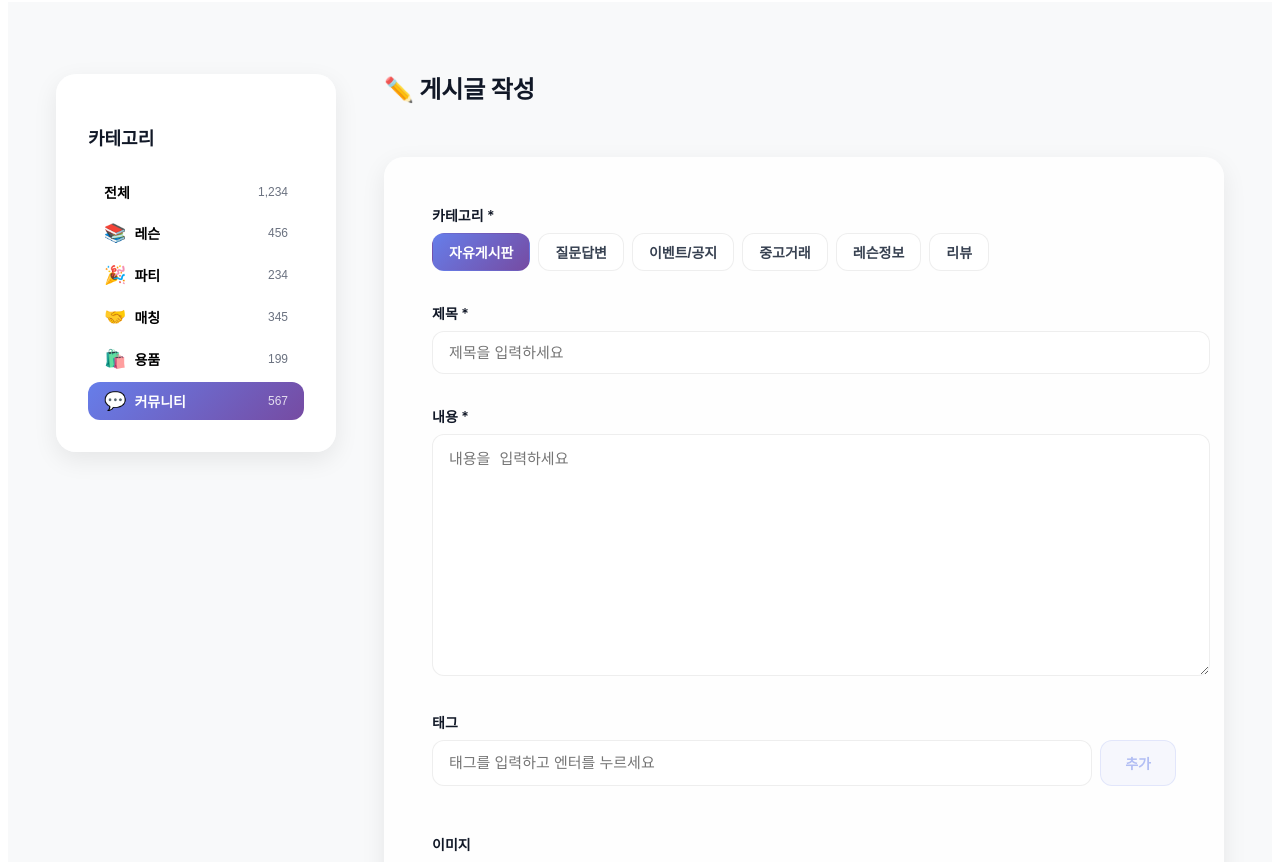
PostForm 컴포넌트 › 폼 검증 › 제목과 내용을 입력하면 제출 버튼이 활성화된다
Type "제목" into the field labelled "제목 *" at (821, 352), box [432,331,1210,374]
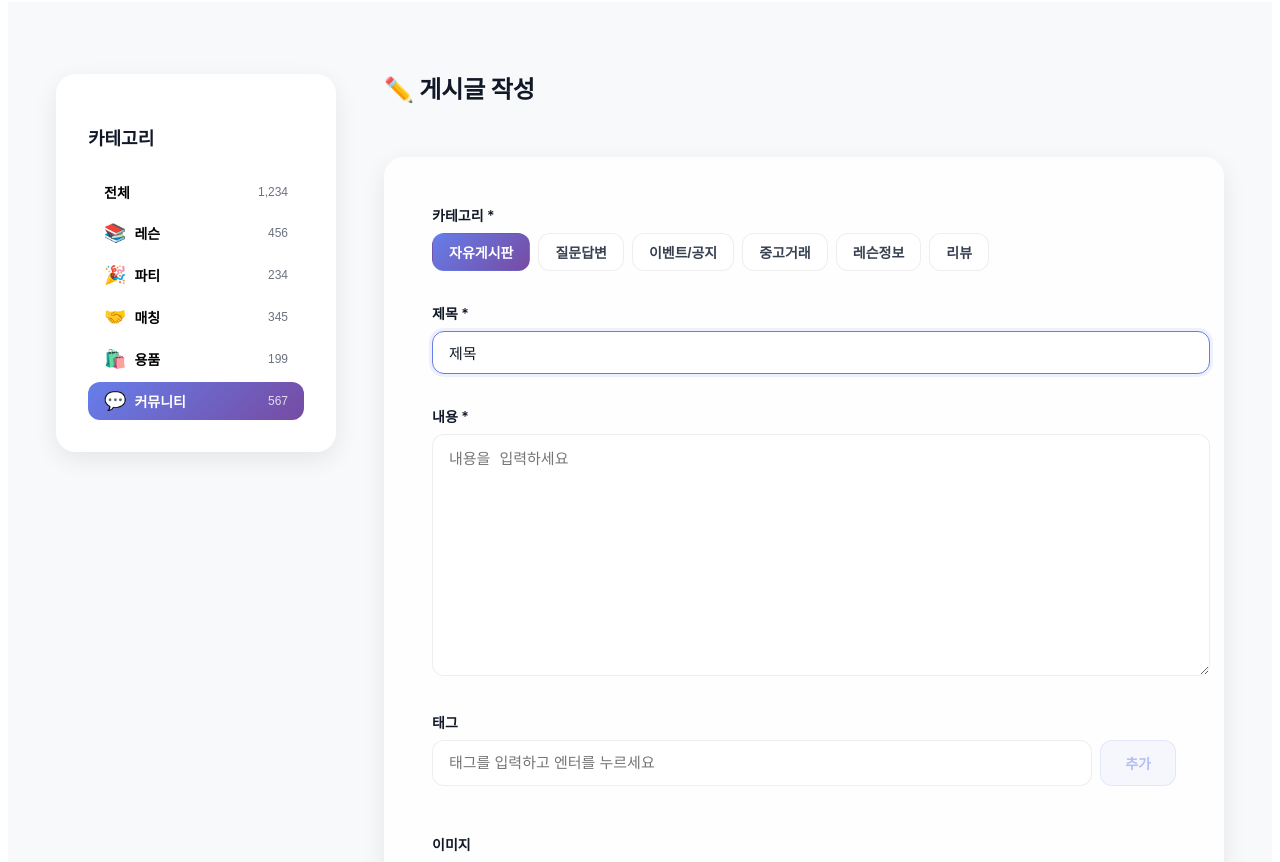
Type "내용" into the text box labelled "내용 *" at (821, 555), box [432,434,1210,676]
(page scrolled)
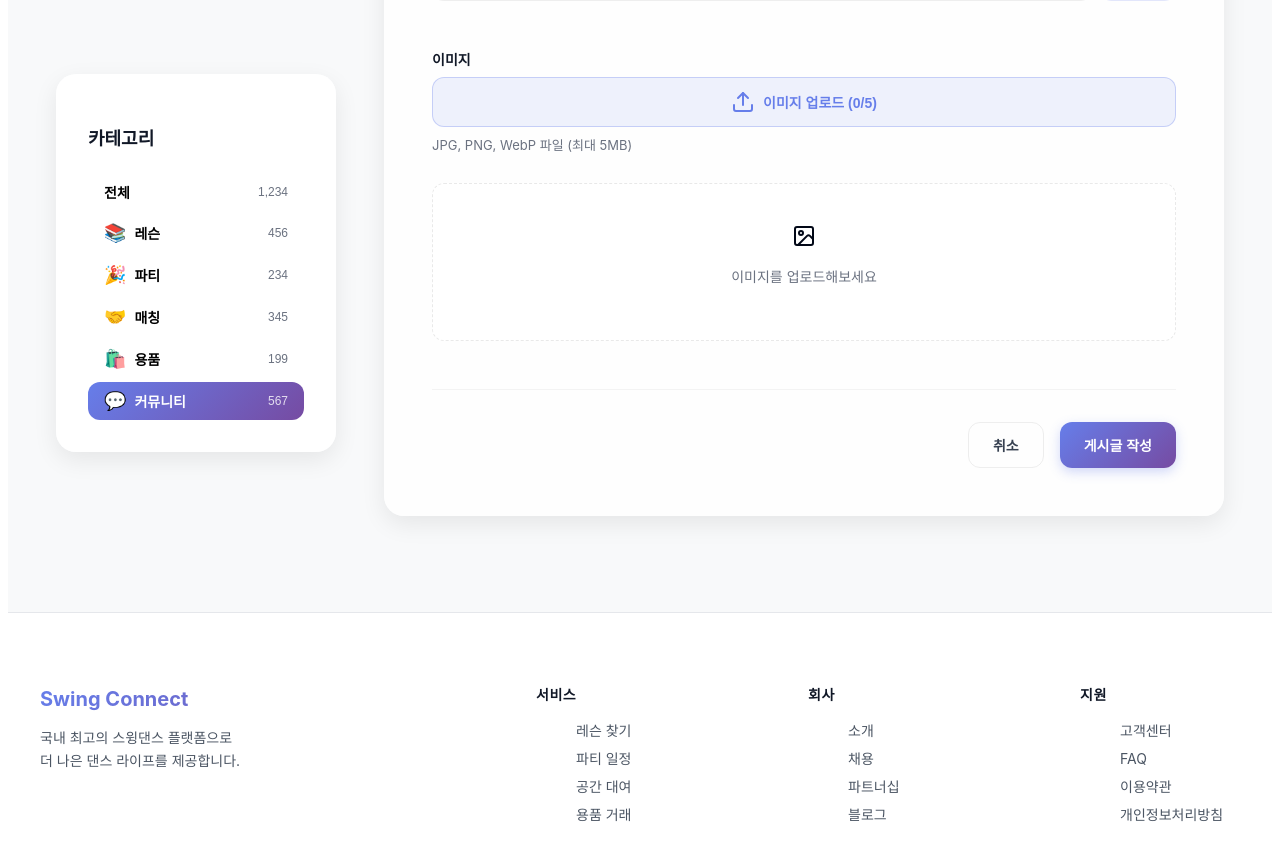
Check: the button "게시글 작성" is enabled, box [1060,422,1176,468]
